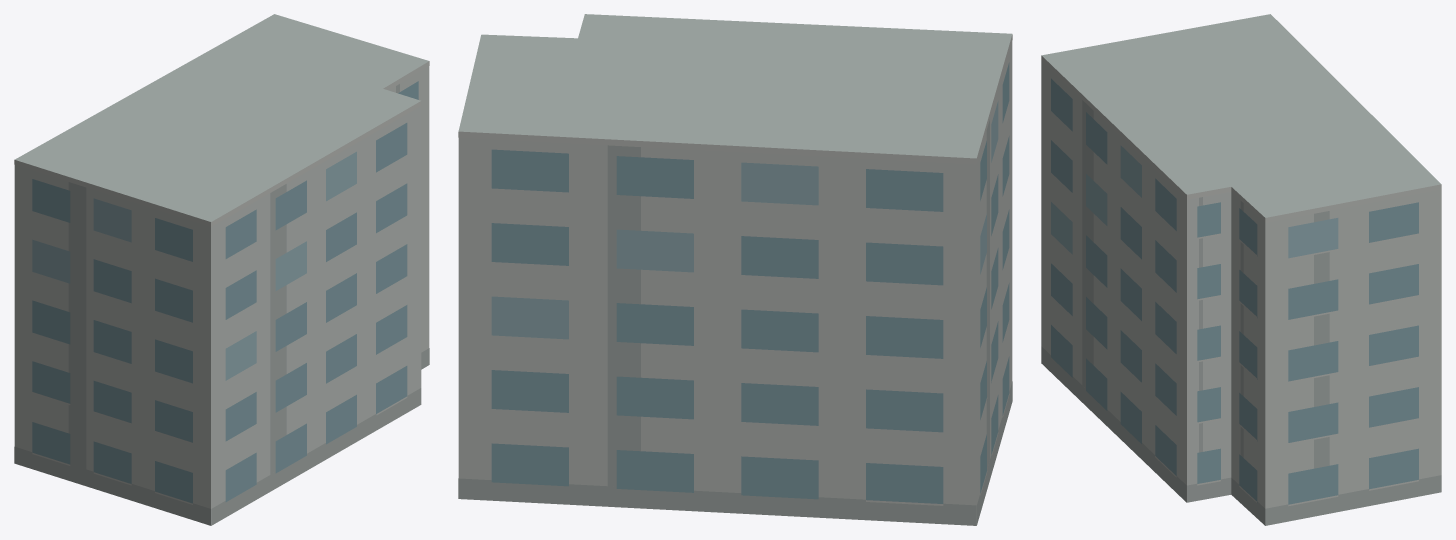
File: survey-upis-32918688.glb
3 renders of one model, left to right at view 1: azimuth 30°, elevation 25°; view 2: azimuth 150°, elevation 25°; view 3: azimuth 270°, elevation 25°, orthographic. The views are drawn at different scales.
Visible parts, largest first — view 1: survey-upis-32918688.tmp; view 2: survey-upis-32918688.tmp; view 3: survey-upis-32918688.tmp.
Boxes of the visible parts, bbox=[...] form: survey-upis-32918688.tmp: bbox=[14, 14, 429, 525]; survey-upis-32918688.tmp: bbox=[458, 14, 1012, 525]; survey-upis-32918688.tmp: bbox=[1041, 14, 1441, 525].
Size of the model in its own units: 20.75 by 14.6 by 17.2.
